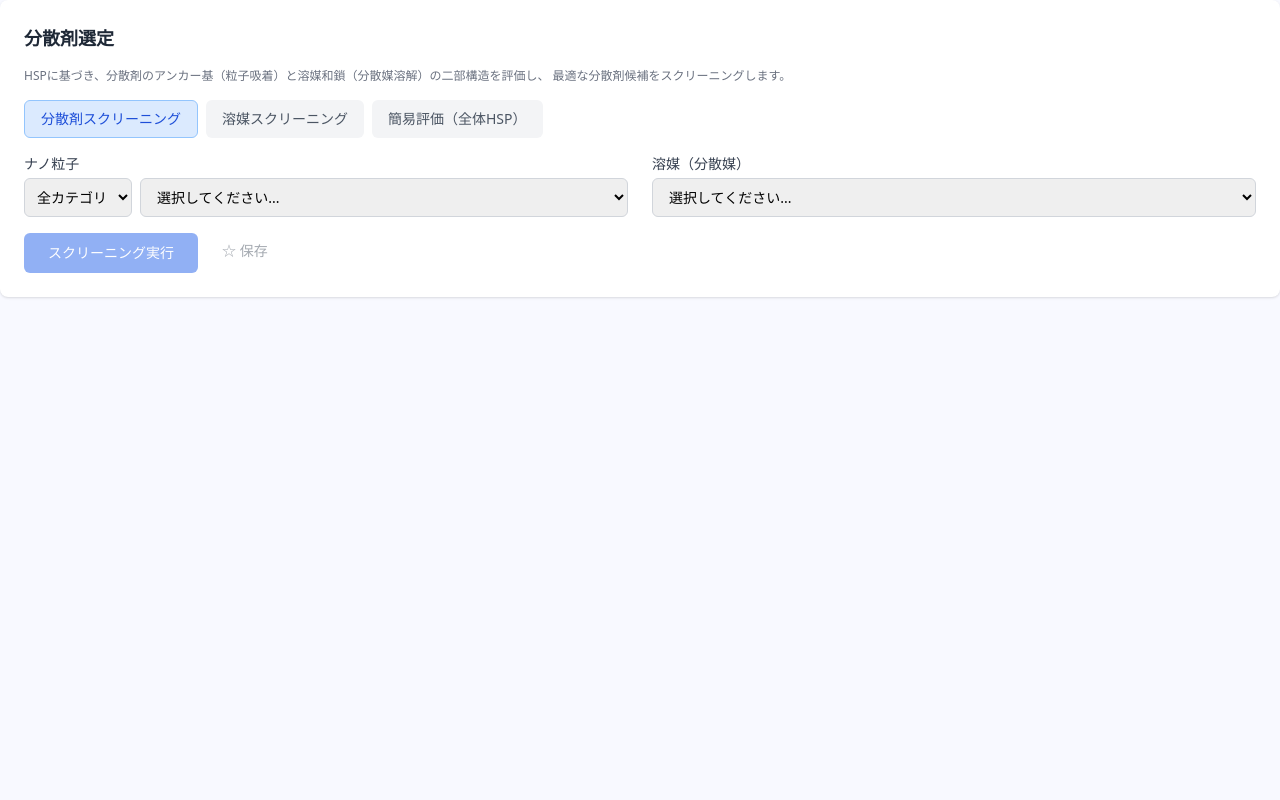
Test: DispersantSelectionView › 分散剤スクリーニング実行後に統計サマリーと精度警告が表示される
The image size is (1280, 800).
Note: 粒子と溶媒の選択（オプションがDOMに描画されるまで待つ）
Select "カーボンブラック (Carbon Black)" in the 2nd dropdown: (384, 198) [140, 178, 628, 217]
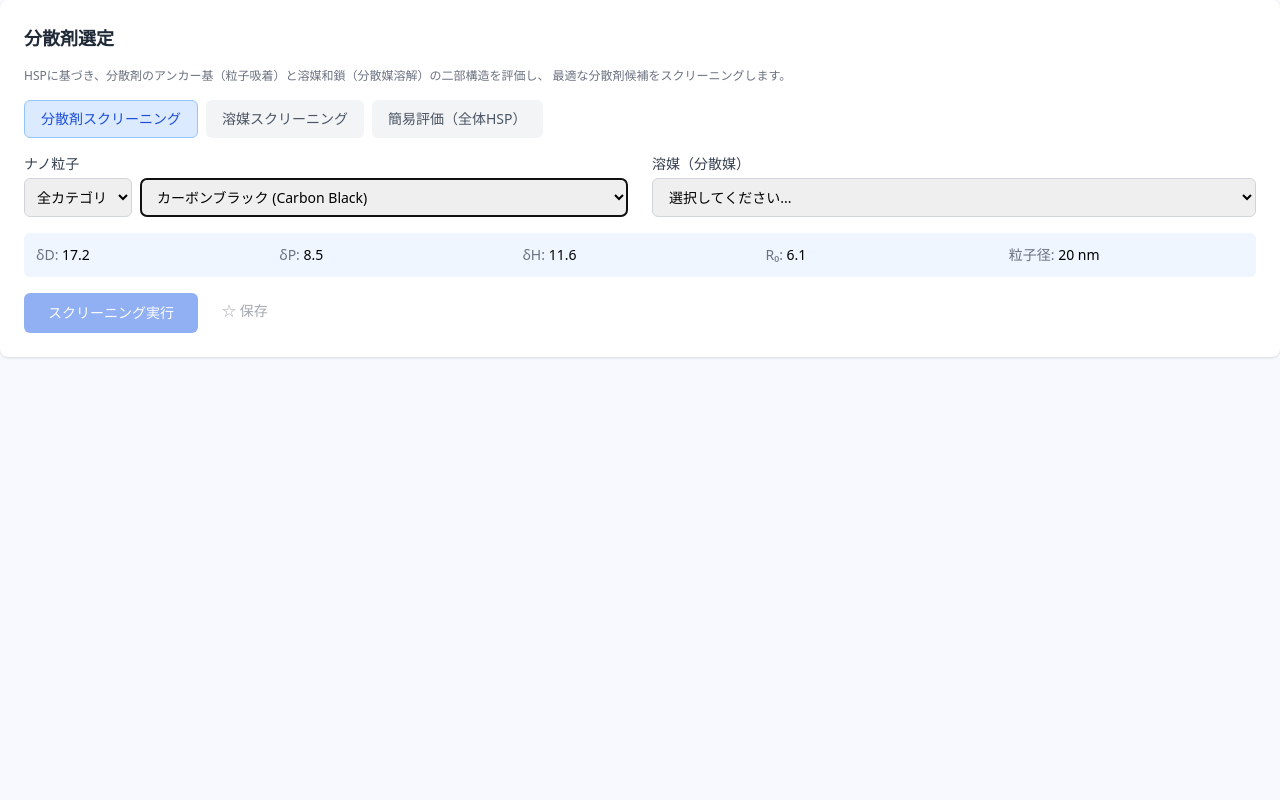
Select "NMP (TestSolvent1)" in the dropdown below "溶媒（分散媒）": (954, 198) [652, 178, 1256, 217]
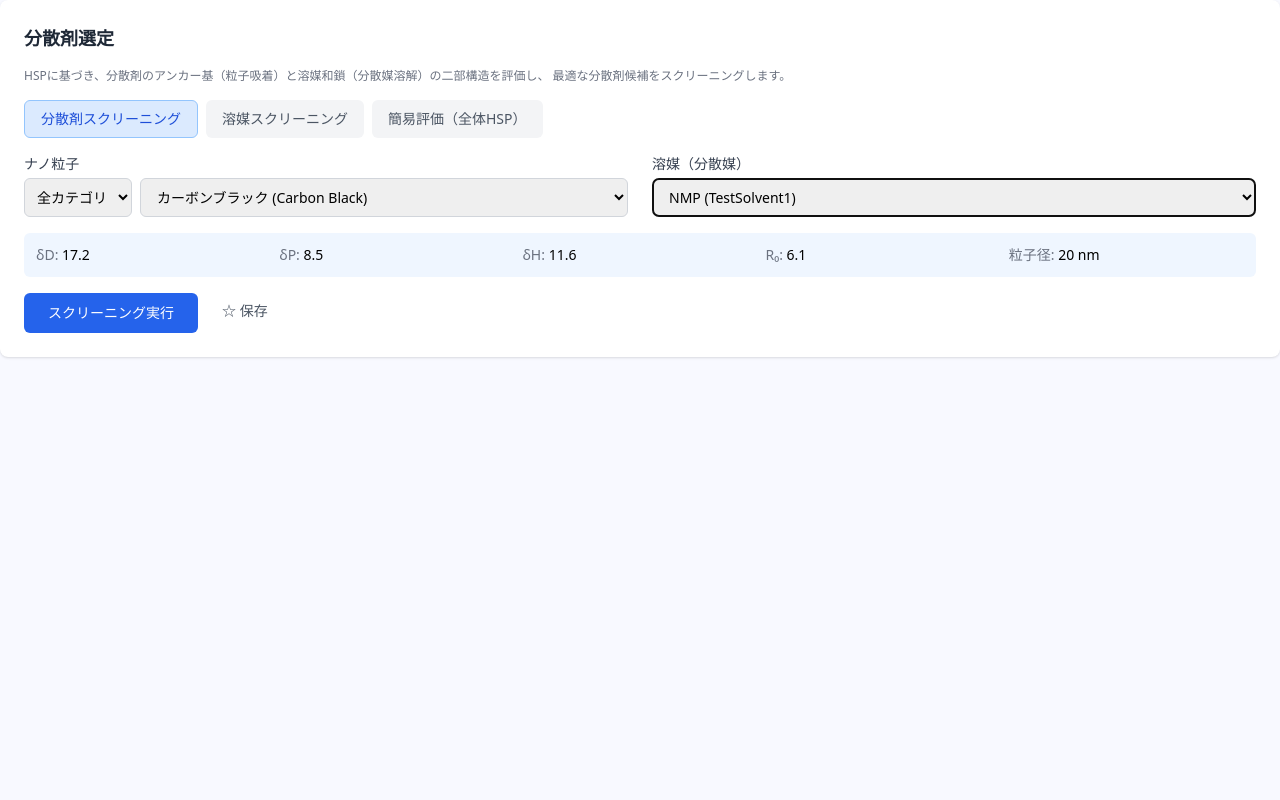
Note: 実行ボタンを押す
Click the button "スクリーニング実行": (111, 313) [24, 293, 198, 333]
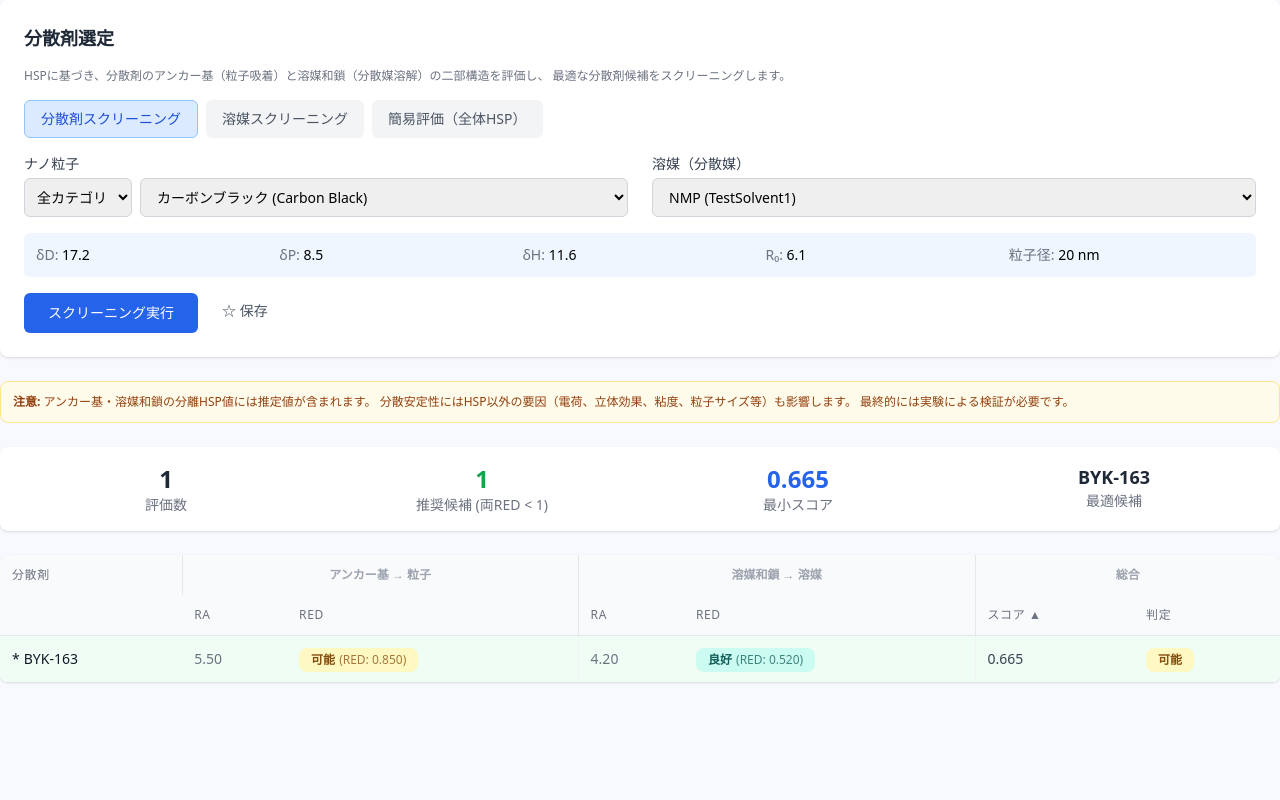
Now the text "評価数" is shown, box [145, 495, 187, 514]
Now the text "推定値" is shown, box [0, 381, 1279, 423]
